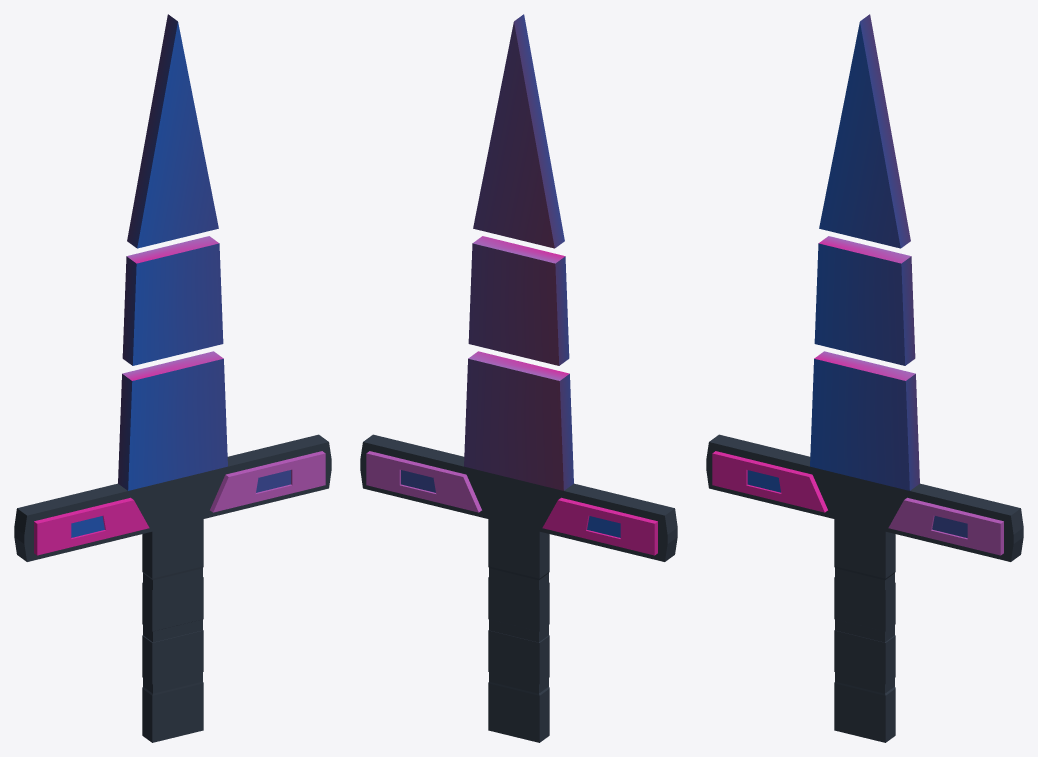
File: swordmain6 1.fbx
3 views of the same model, side by side, from view 1: azimuth 30°, elevation 25°; view 2: azimuth 150°, elevation 25°; view 3: azimuth 330°, elevation 25° (orthographic).
Parts seen in each view (by area): view 1: Cube.003; view 2: Cube.003; view 3: Cube.003.
Boxes of the visible parts, x1,y1,x2,y2 form: Cube.003: (14, 14, 331, 742); Cube.003: (360, 14, 677, 742); Cube.003: (706, 14, 1023, 742).
Size of the model in its own units: 73.16 by 163 by 6.93.
1 material, 1 textured.
